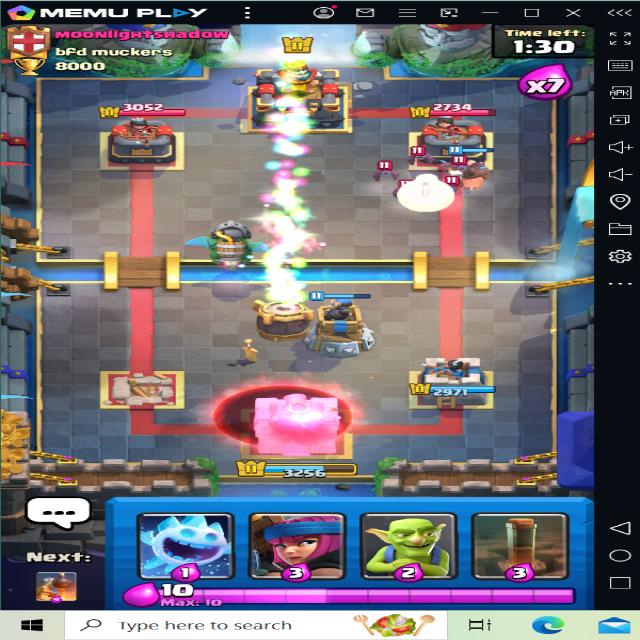Bat: (372, 158, 399, 182), (406, 144, 437, 164), (439, 154, 473, 172)
Rocket: (242, 295, 327, 346)
Void: (210, 376, 360, 446)
